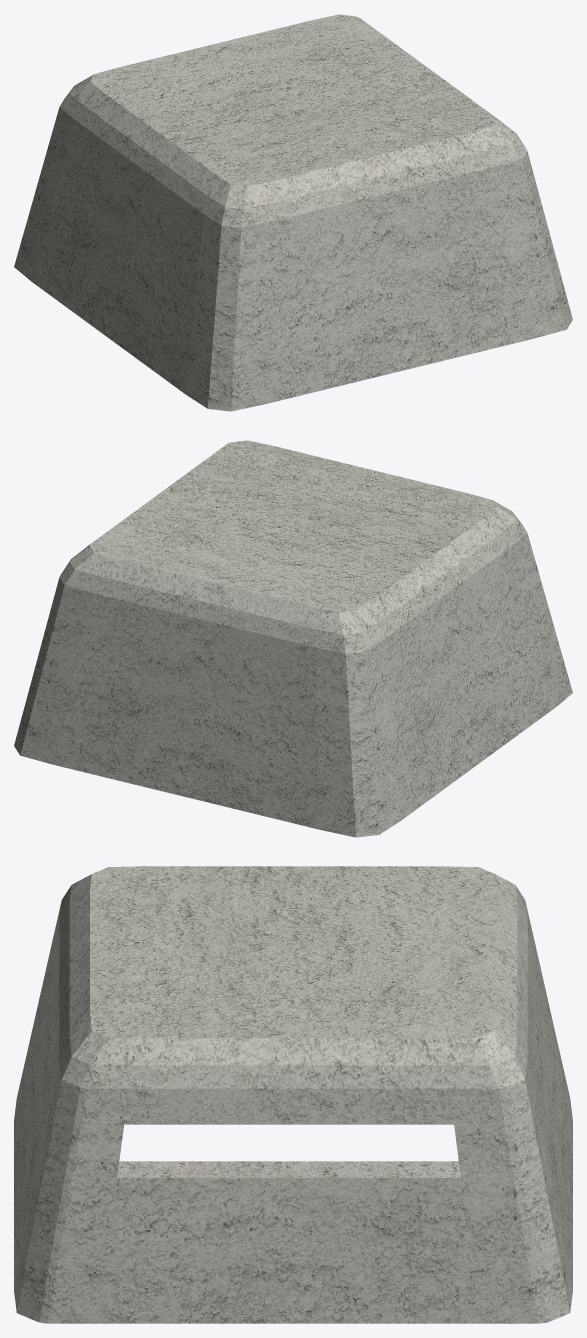
The model's file is bunker.obj.
3 renders of one model, top to bottom at view 1: azimuth 30°, elevation 25°; view 2: azimuth 150°, elevation 25°; view 3: azimuth 270°, elevation 25°, orthographic. The views are drawn at different scales.
Parts seen in each view (by area): view 1: Cube; view 2: Cube; view 3: Cube.
Boxes of the visible parts, x1,y1,x2,y2 form: Cube: (14,14,572,411); Cube: (14,440,572,837); Cube: (14,866,572,1323).
Bounding box in the file's own units: 20 × 10 × 20.
1 material, 1 textured.
